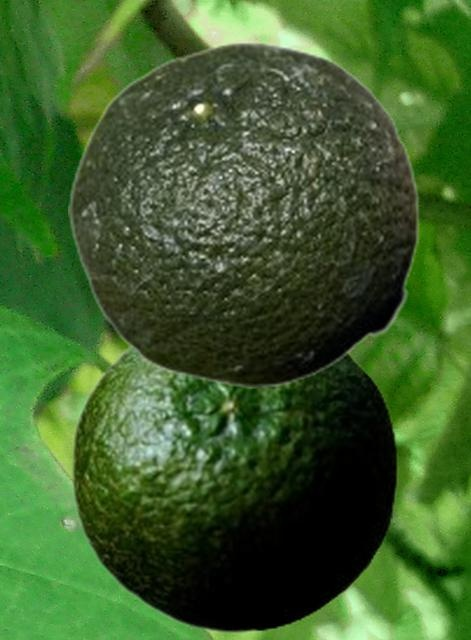calamansi: (68, 41, 419, 387), (70, 344, 397, 633)
